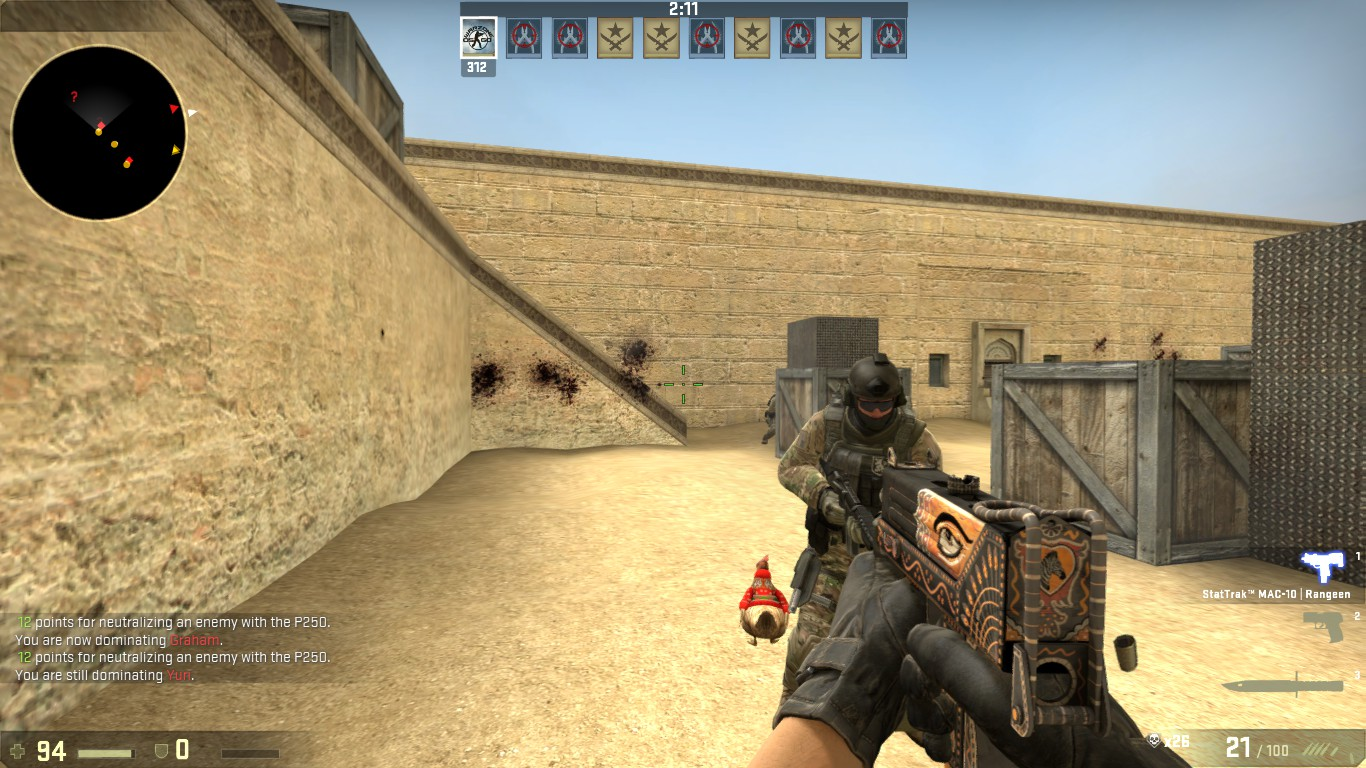ch: (838, 350, 907, 440)
